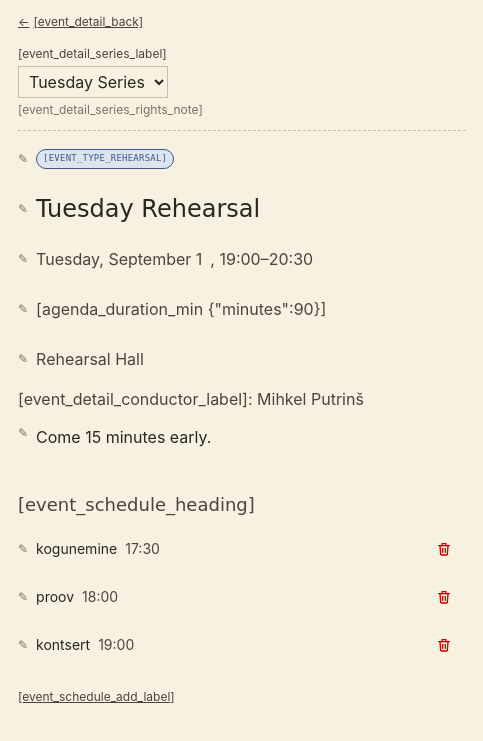
Test: #262 — add flow (in-situ family, #239/#249 single-name rule) › name entry is a native text input named by a VISIBLE <label for> — no redundant same-key aria-label
Expected: the heading with test id "event-detail-name" shows "Tuesday Rehearsal", [18,187,466,231]
Click the button with test id "event-schedule-add" at (96, 697), box [18,675,175,719]
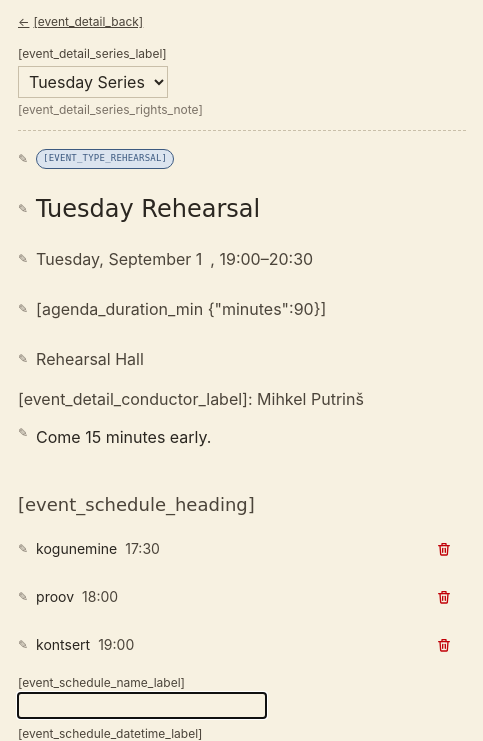
Result: the field with test id "event-schedule-add-name" is shown at [18,693,266,718]
Result: the label "[event_schedule_name_label]" is shown at [18,675,185,690]
